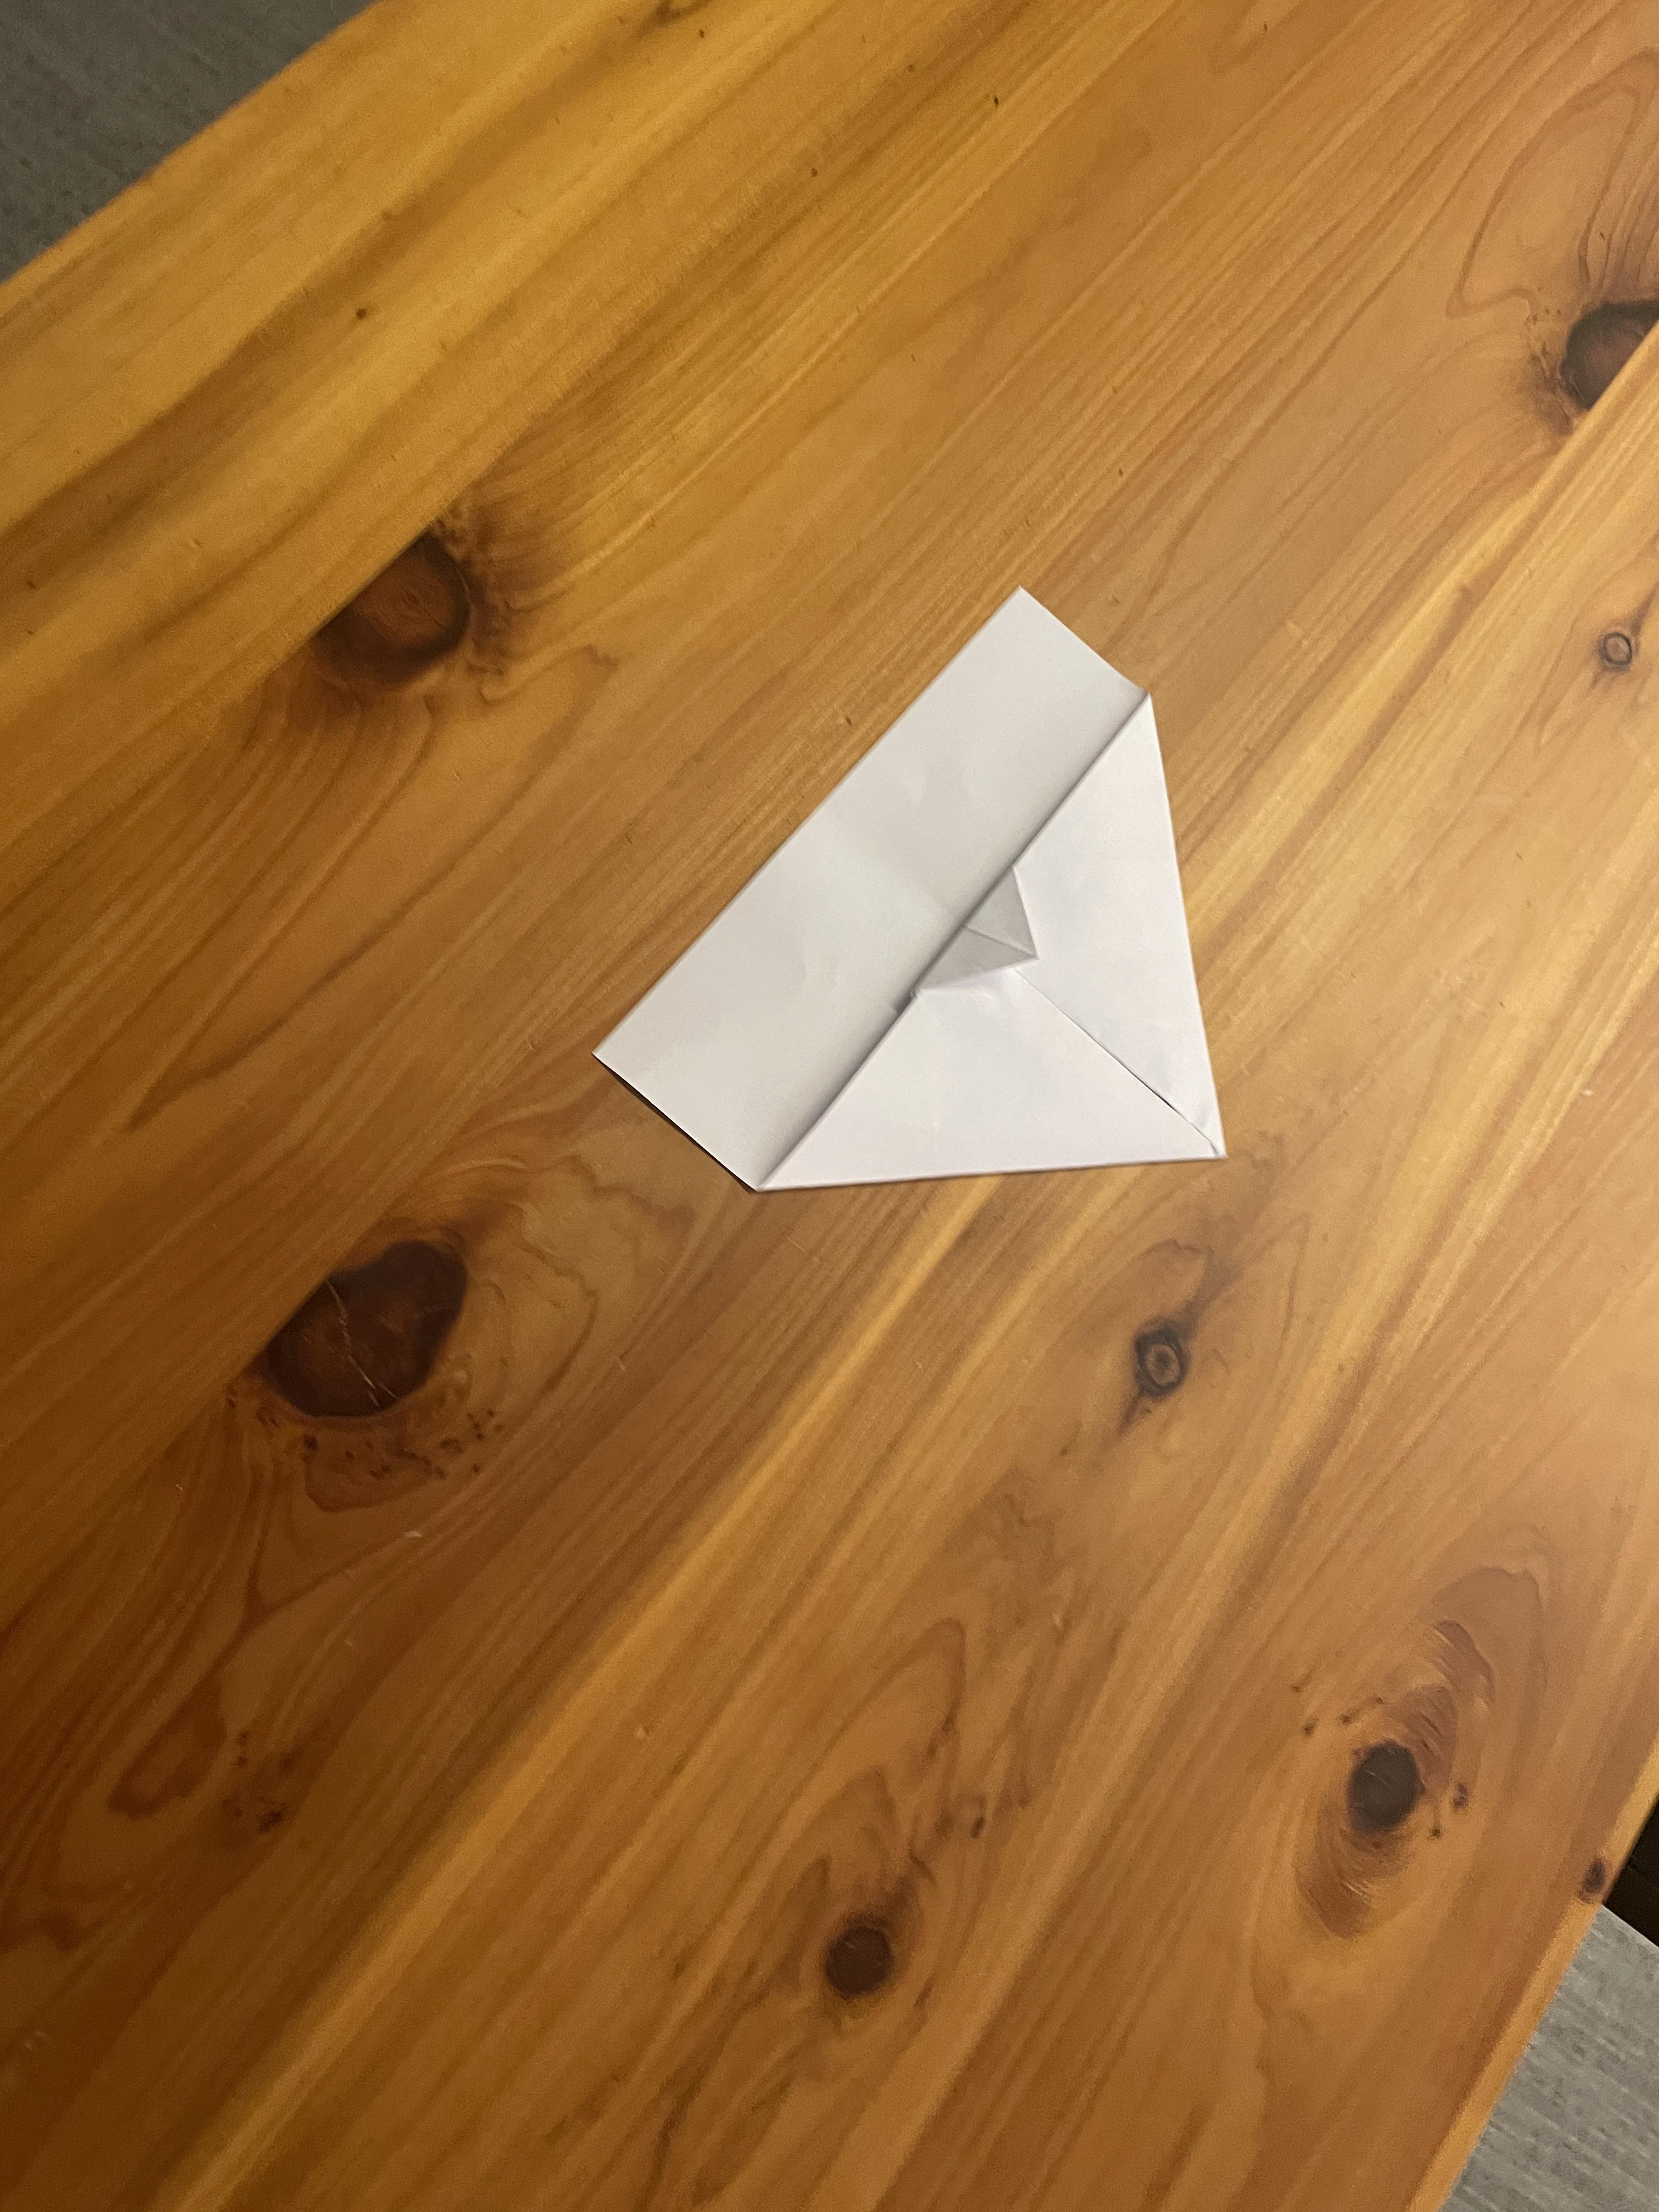shape_2: (505, 408, 1316, 1385)
